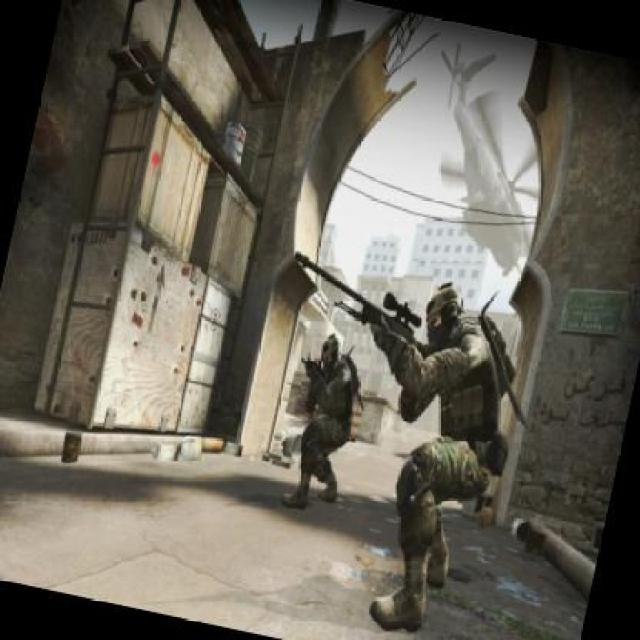MIL_Pax: (351, 276, 535, 638), (279, 325, 372, 513)
